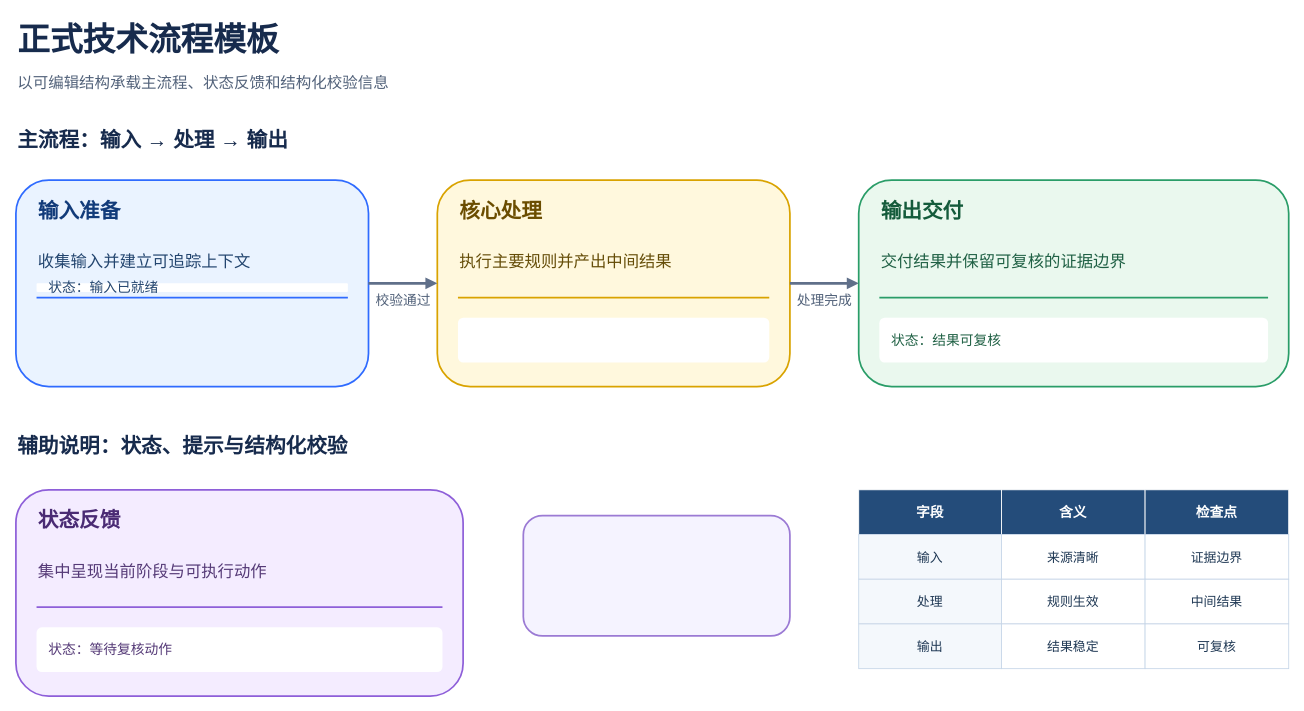
Image size: 1304x711. Some labels were removed from this diagram. Here are the shapes that lost their labels. From the top down, the box of each, then its label:
(458, 317, 769, 362): 状态：规则执行中
(522, 514, 790, 636): 阅读提示 先看主流程，再用状态与表格校验结果。
